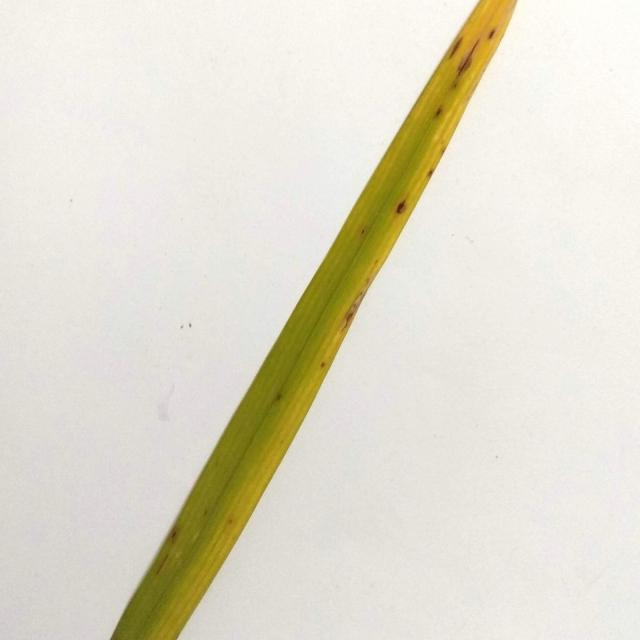Brown spot: (96, 0, 526, 640)
